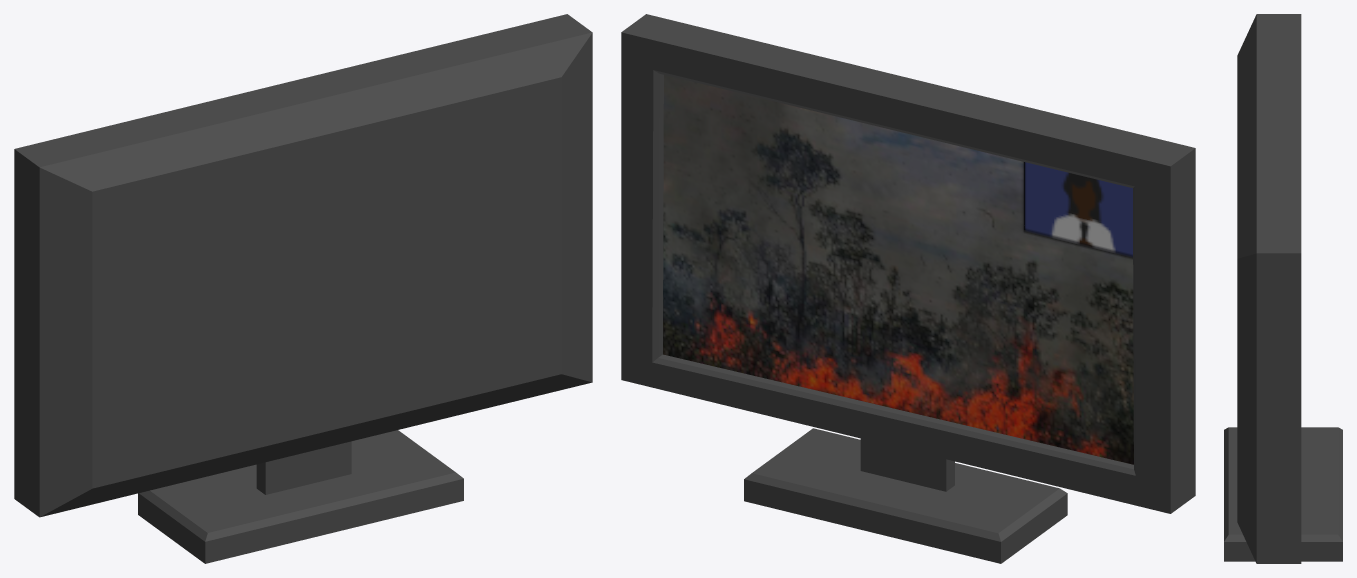
Rendered from interactible_tv_on.fbx.
The picture shows the model from 3 angles, left to right: view 1: azimuth 30°, elevation 25°; view 2: azimuth 150°, elevation 25°; view 3: azimuth 270°, elevation 25°; orthographic projection. The views are drawn at different scales.
Visible parts, largest first — view 1: interactible_tv_on; view 2: interactible_tv_on; view 3: interactible_tv_on.
Part boxes in pixels (box(x1,y1,x2,y2)): interactible_tv_on: box(14, 14, 592, 563); interactible_tv_on: box(621, 14, 1195, 563); interactible_tv_on: box(1224, 14, 1342, 563).
Size of the model in its own units: 1.47 by 1.06 by 0.3084.
